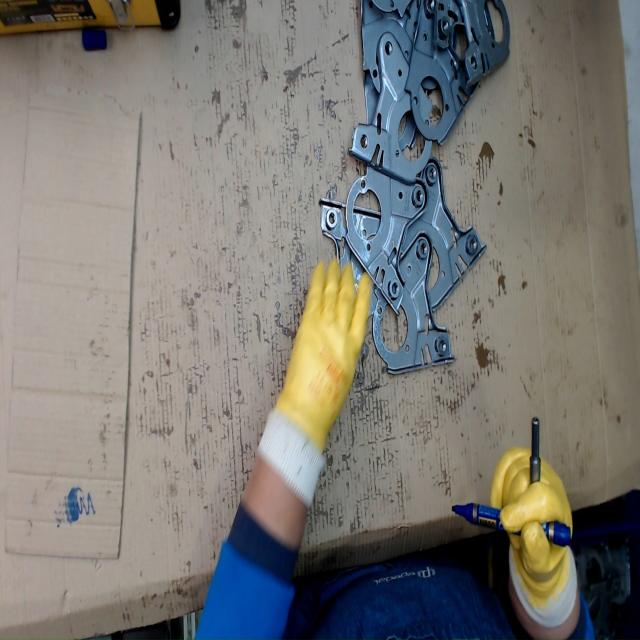hands: (273, 259, 372, 448), (488, 446, 574, 602)
